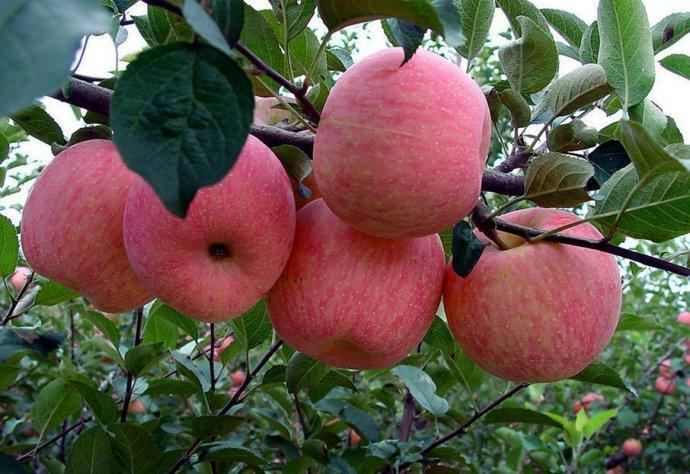apple: (312, 46, 492, 237), (122, 128, 297, 324), (442, 207, 621, 381), (267, 195, 447, 368), (20, 138, 157, 313), (622, 438, 642, 457)
